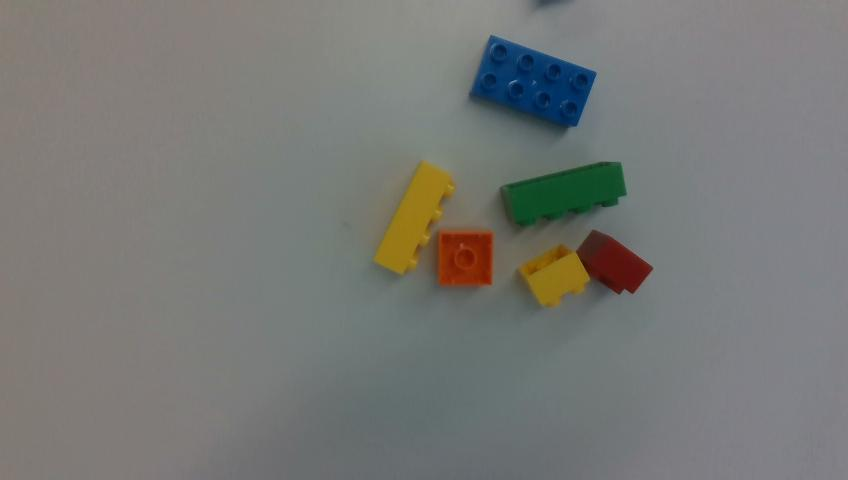2x2_orange: (437, 231, 491, 285)
2x2_red: (577, 231, 652, 293)
2x2_yellow: (519, 245, 589, 306)
4x2_blue: (470, 36, 595, 127)
4x2_green: (501, 162, 626, 226)
4x2_yellow: (374, 161, 455, 274)
